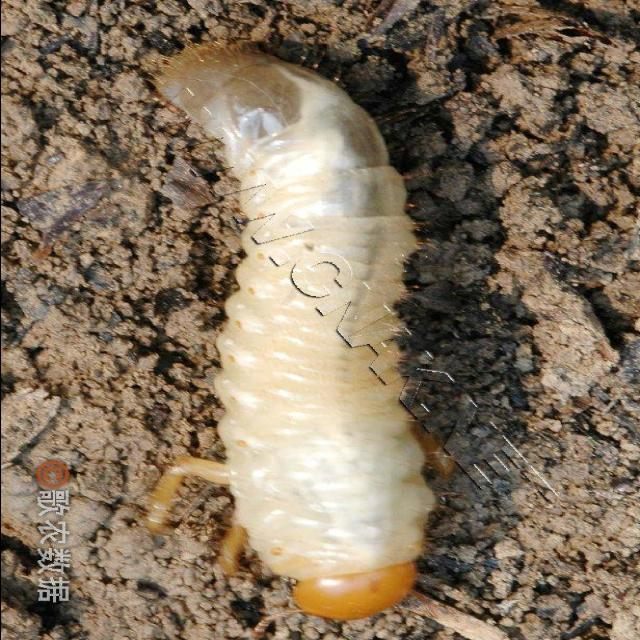grub: (149, 34, 451, 631)
